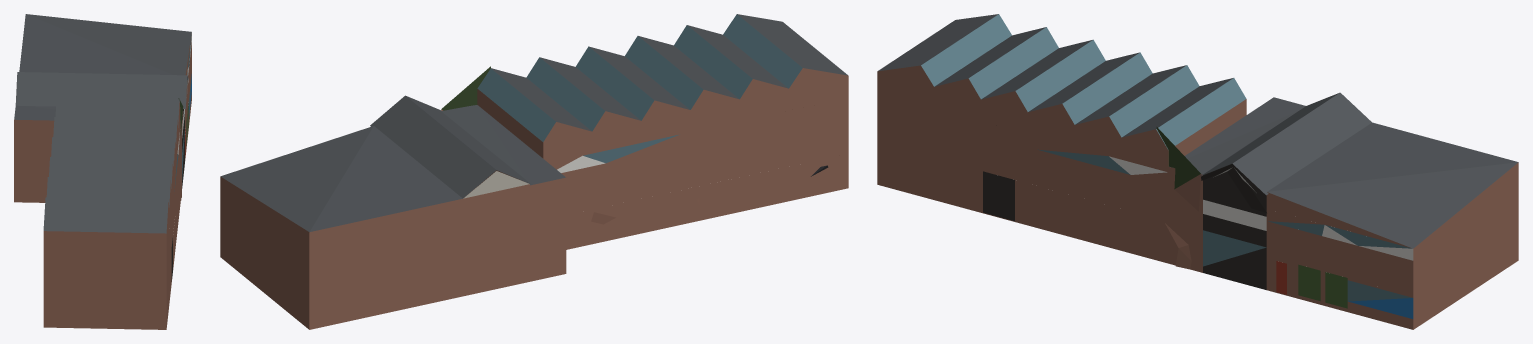
Rendered from skatecafe.lod2.glb.
3 renders of one model, left to right at view 1: azimuth 30°, elevation 25°; view 2: azimuth 150°, elevation 25°; view 3: azimuth 270°, elevation 25°, orthographic. The views are drawn at different scales.
Visible parts, largest first — view 1: lod2; view 2: lod2; view 3: lod2.
Part boxes in pixels (x1=…): lod2: x1=14, y1=14, x2=191, y2=329; lod2: x1=220, y1=14, x2=848, y2=329; lod2: x1=877, y1=14, x2=1518, y2=329.
Size of the model in its own units: 29.61 by 9.35 by 40.8.
